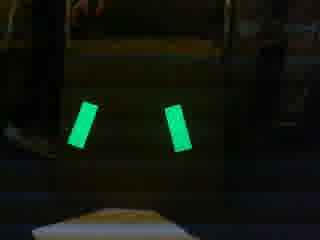target: (63, 98, 193, 153)
